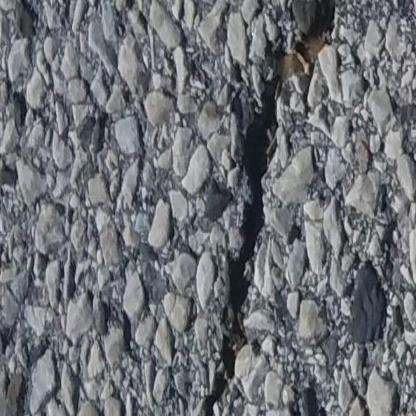Cracks: (190, 0, 350, 416), (285, 389, 304, 416)
